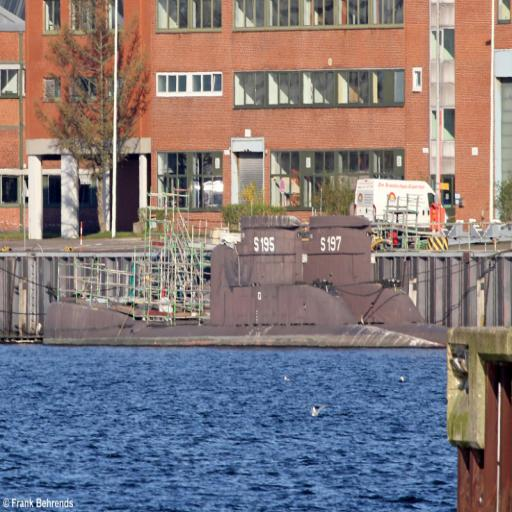submarine: (41, 246, 448, 348), (281, 210, 463, 347)
